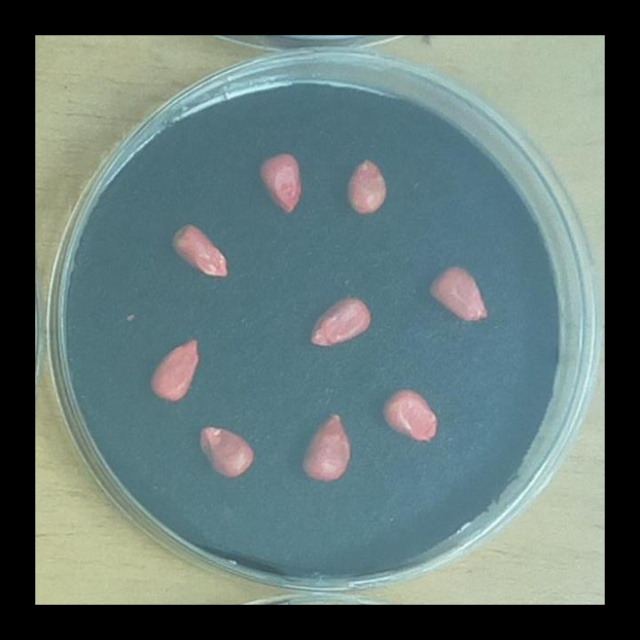Zea mays: (302, 289, 377, 354), (142, 332, 206, 408), (295, 406, 355, 487), (165, 215, 234, 285), (376, 381, 445, 449), (421, 258, 492, 324), (191, 417, 260, 483), (252, 144, 308, 217), (340, 151, 391, 218)
